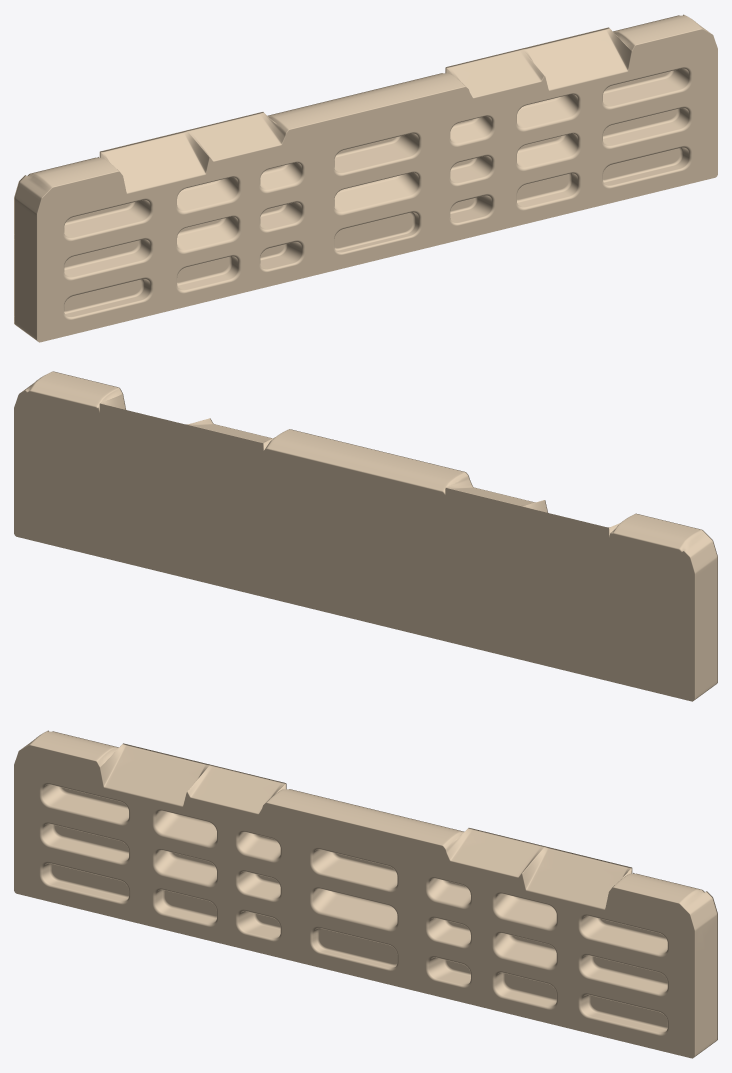
The model's file is zlagboard-pro-2-0.glb.
3 renders of one model, top to bottom at view 1: azimuth 30°, elevation 25°; view 2: azimuth 150°, elevation 25°; view 3: azimuth 330°, elevation 25°, orthographic.
Visible parts, largest first — view 1: body--board, hold--right-sloper-32, hold--left-sloper-32, hold--center-sloping-jug, hold--left-sloper-20, hold--right-sloper-20, hold--row-2-column-4, hold--row-1-column-4, hold--row-1-column-7, hold--row-1-column-1, hold--row-1-column-6, hold--row-1-column-2 (+17 smaller); view 2: body--board, hold--center-sloping-jug, hold--left-jug, hold--right-jug, hold--left-sloper-20, hold--right-sloper-20; view 3: body--board, hold--left-sloper-32, hold--right-sloper-32, hold--center-sloping-jug, hold--right-sloper-20, hold--left-sloper-20, hold--row-2-column-4, hold--row-1-column-4, hold--row-1-column-1, hold--row-1-column-7, hold--row-1-column-2, hold--row-1-column-6 (+17 smaller).
Boxes of the visible parts, bbox=[...] form: body--board: bbox=[14, 14, 717, 342]; hold--right-sloper-32: bbox=[522, 27, 631, 90]; hold--left-sloper-32: bbox=[100, 130, 209, 193]; hold--center-sloping-jug: bbox=[268, 67, 466, 133]; hold--left-sloper-20: bbox=[187, 112, 286, 161]; hold--right-sloper-20: bbox=[446, 48, 544, 98]; hold--row-2-column-4: bbox=[333, 172, 421, 215]; hold--row-1-column-4: bbox=[333, 134, 421, 176]; hold--row-1-column-7: bbox=[601, 69, 692, 109]; hold--row-1-column-1: bbox=[63, 200, 153, 241]; hold--row-1-column-6: bbox=[515, 94, 581, 131]; hold--row-1-column-2: bbox=[176, 177, 241, 214]; body--board: bbox=[14, 384, 717, 701]; hold--center-sloping-jug: bbox=[263, 429, 468, 490]; hold--left-jug: bbox=[614, 513, 704, 548]; hold--right-jug: bbox=[30, 371, 120, 405]; hold--left-sloper-20: bbox=[446, 476, 535, 506]; hold--right-sloper-20: bbox=[187, 418, 272, 443]; body--board: bbox=[14, 730, 717, 1058]; hold--left-sloper-32: bbox=[100, 743, 209, 806]; hold--right-sloper-32: bbox=[522, 846, 631, 909]; hold--center-sloping-jug: bbox=[265, 783, 463, 849]; hold--right-sloper-20: bbox=[445, 828, 544, 877]; hold--left-sloper-20: bbox=[187, 764, 285, 814]; hold--row-2-column-4: bbox=[310, 889, 398, 931]; hold--row-1-column-4: bbox=[310, 850, 398, 892]; hold--row-1-column-1: bbox=[39, 785, 130, 825]; hold--row-1-column-7: bbox=[578, 916, 668, 957]; hold--row-1-column-2: bbox=[152, 811, 218, 848]; hold--row-1-column-6: bbox=[492, 894, 557, 931].
Bounding box in the file's own units: 0.705 × 0.152 × 0.042.
